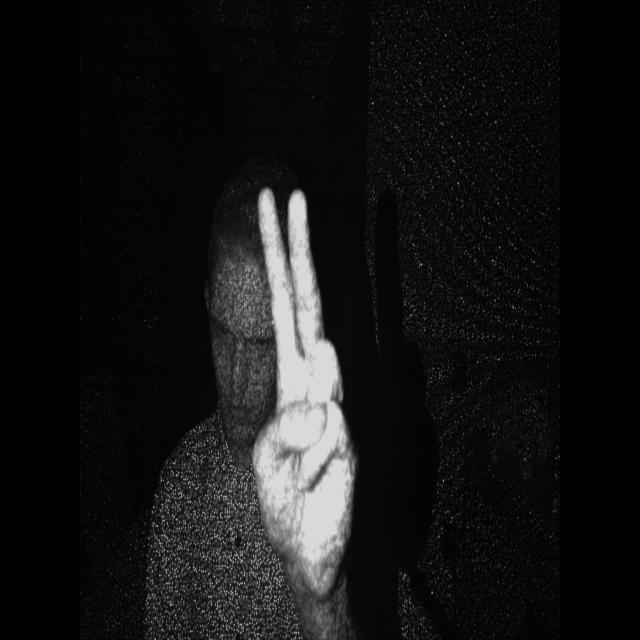V: (237, 162, 367, 584)
